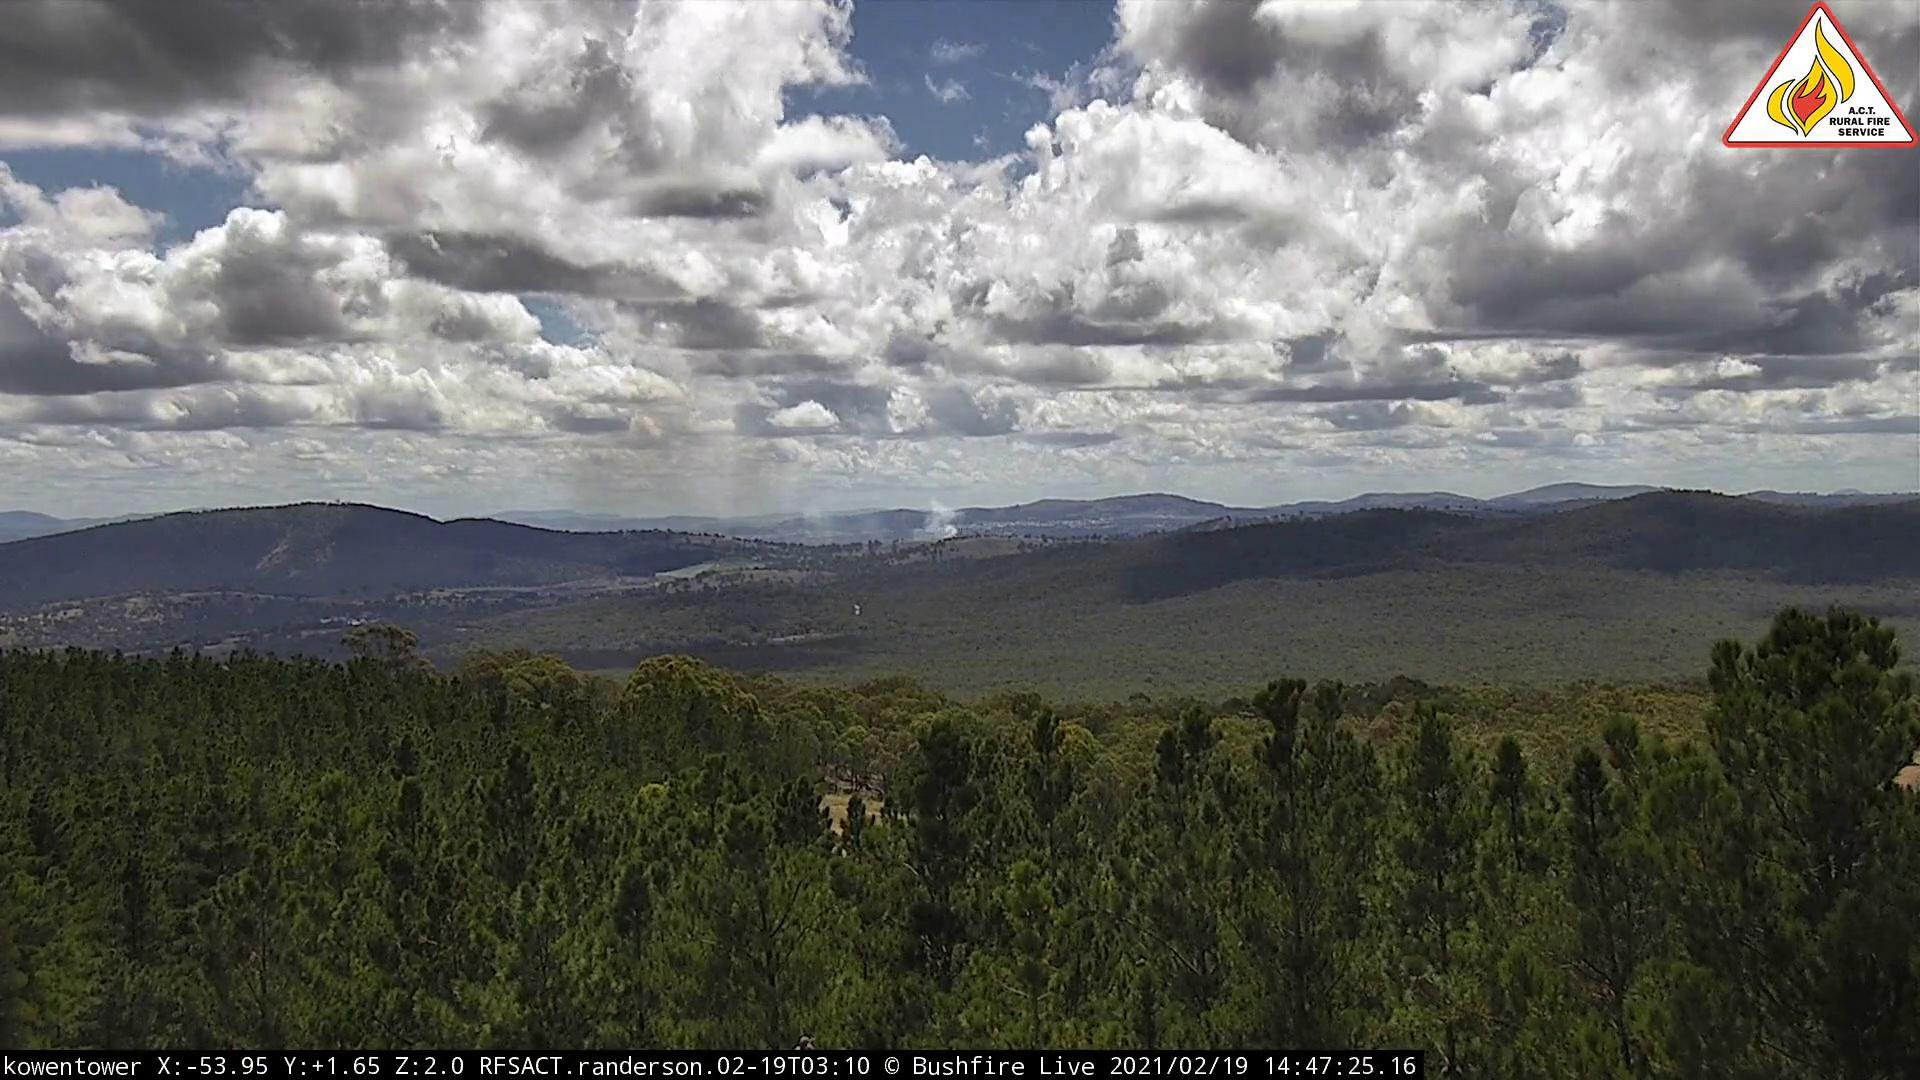instance_salient_object: (545, 410, 964, 547)
